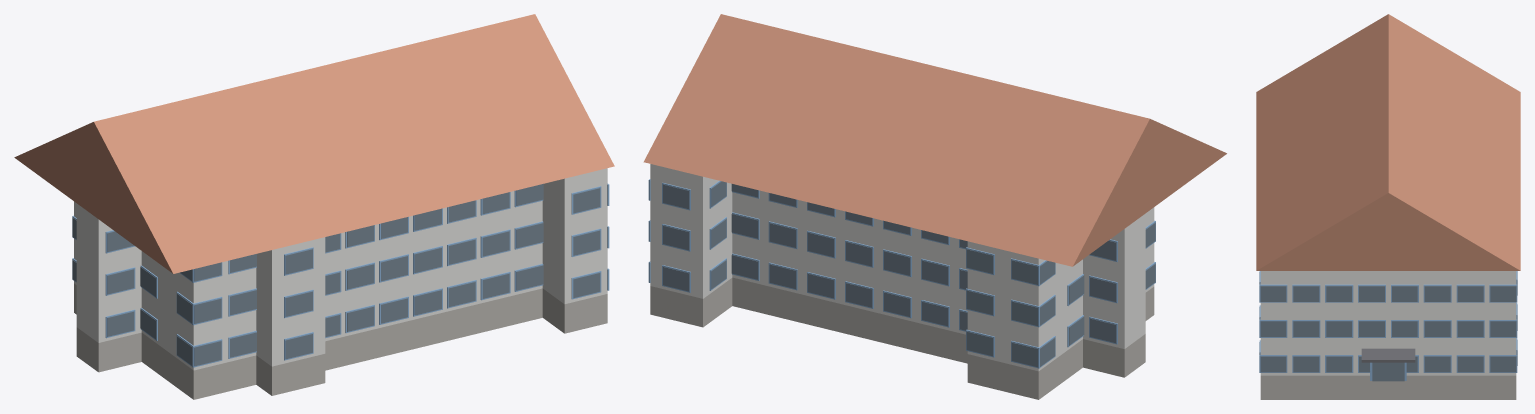
Rendered from kandern-bfa.glb.
3 renders of one model, left to right at view 1: azimuth 30°, elevation 25°; view 2: azimuth 150°, elevation 25°; view 3: azimuth 270°, elevation 25°, orthographic. The views are drawn at different scales.
Visible parts, largest first — view 1: building; view 2: building; view 3: building.
Boxes of the visible parts, x1,y1,x2,y2 form: building: (14,14,614,399); building: (643,14,1226,399); building: (1256,14,1520,399).
Bounding box in the file's own units: 41.37 × 21.4 × 24.55.
